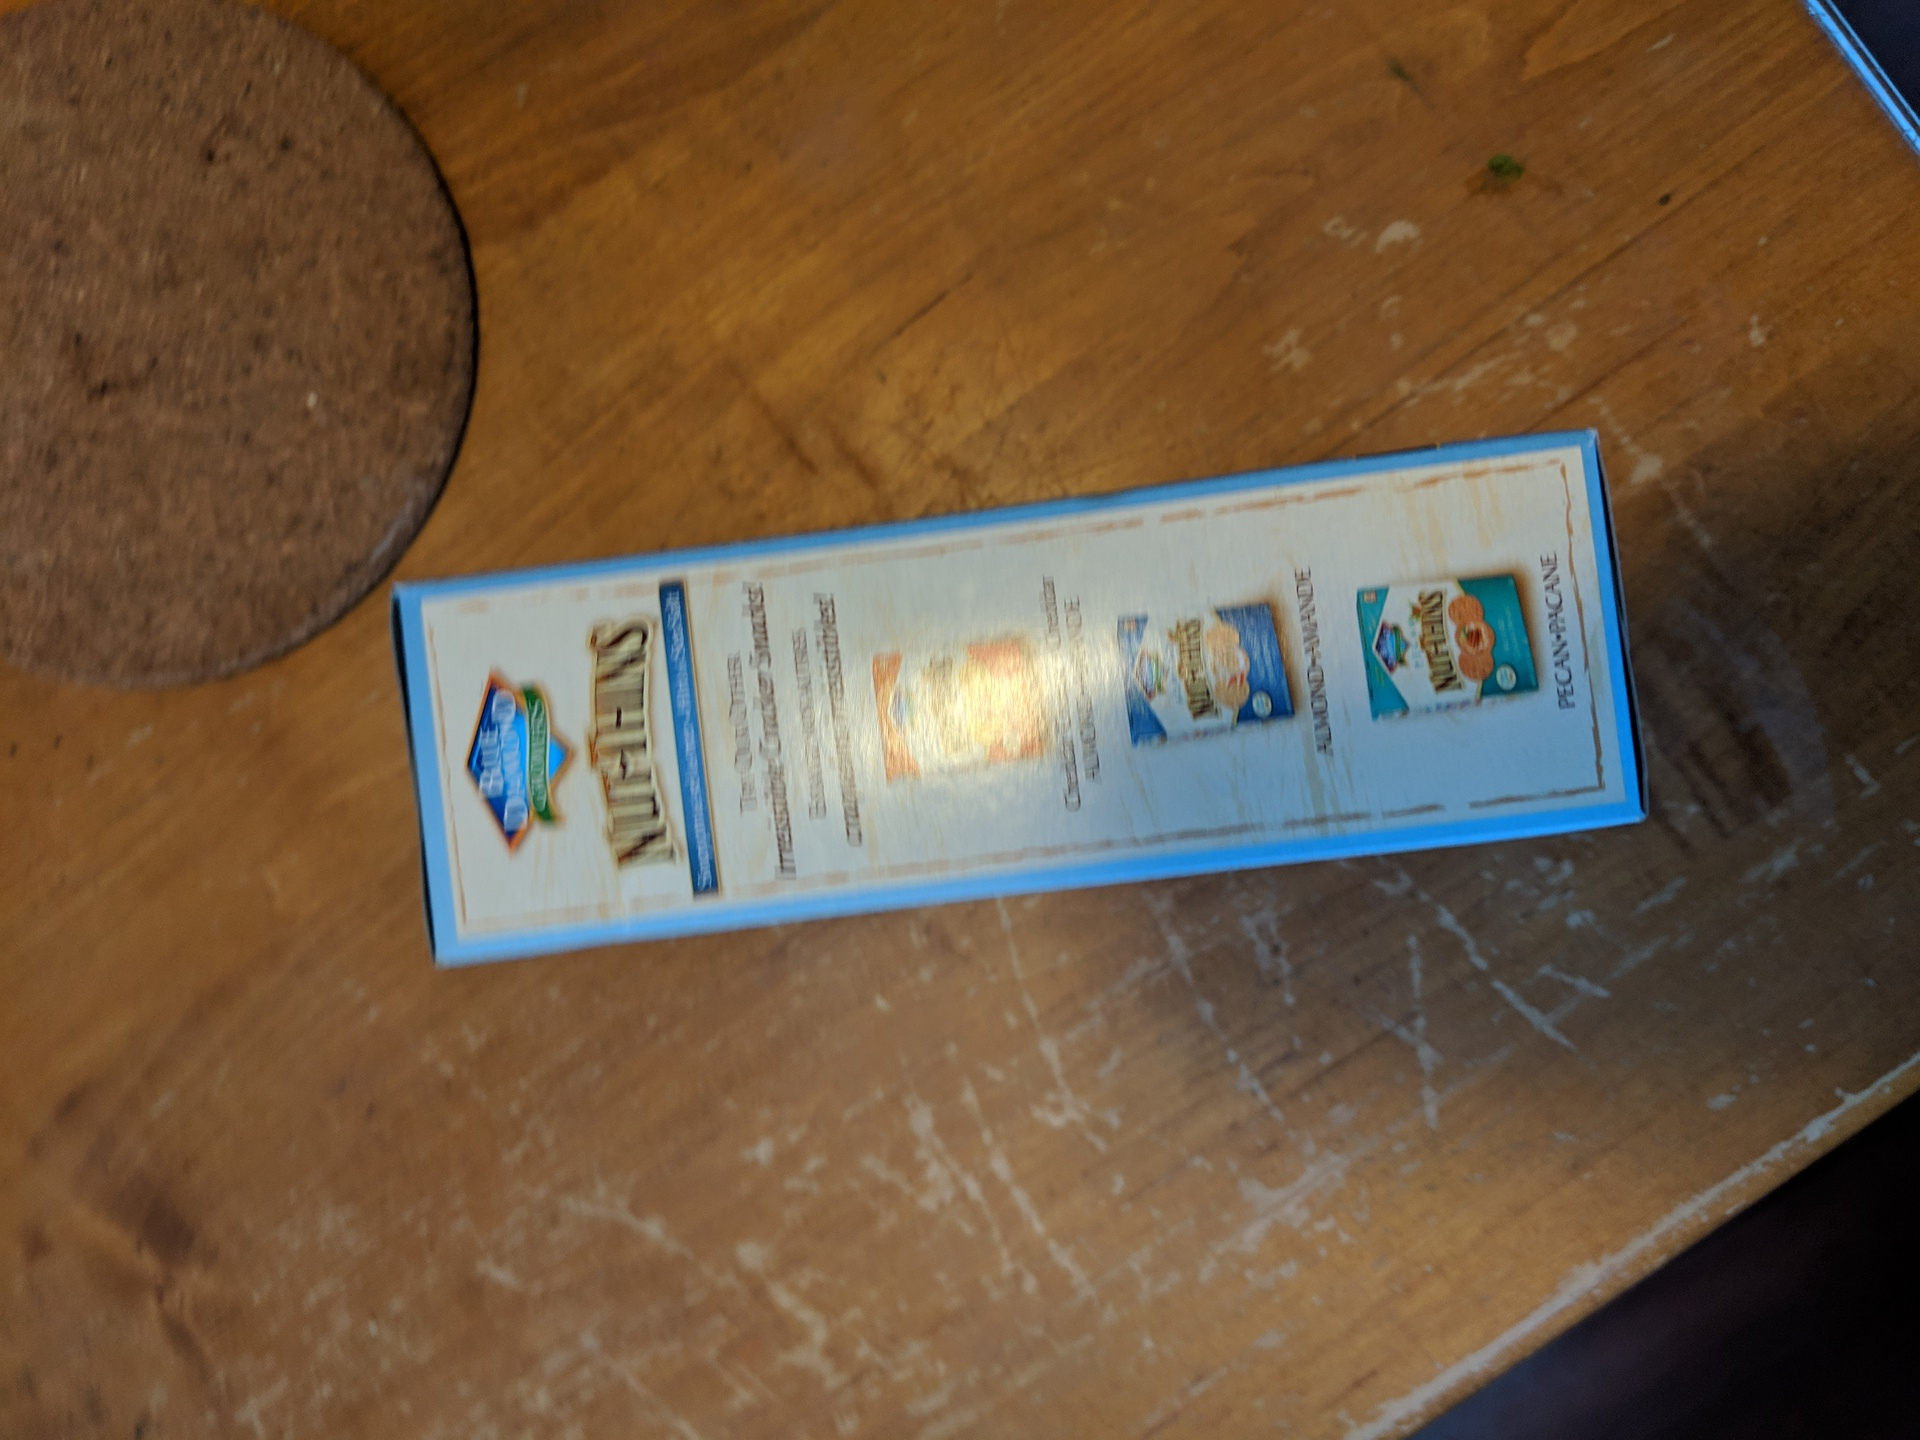blue_diamond_nut_thins_almond_seasalt: (420, 463, 1646, 914)
